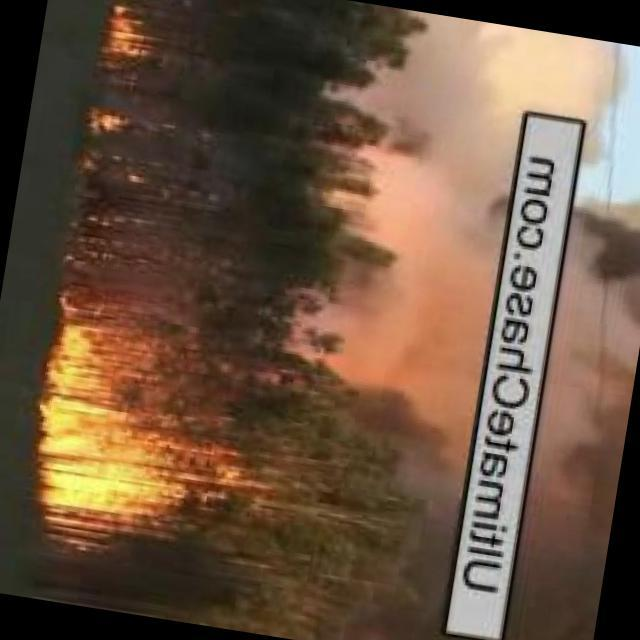Fire: (27, 296, 245, 567), (78, 99, 159, 195), (104, 2, 154, 63)
